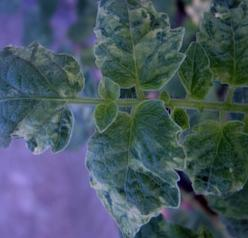Tomato leaf mosaic virus: (87, 100, 192, 236), (0, 40, 83, 156), (90, 0, 187, 92), (179, 114, 248, 200), (195, 0, 248, 97)
